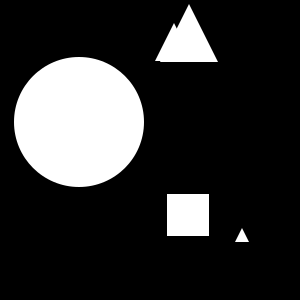circle: (167, 194, 209, 236)
rectangle: (14, 57, 144, 187)
triangle: (160, 4, 218, 62), (155, 23, 193, 61), (235, 228, 249, 242)
